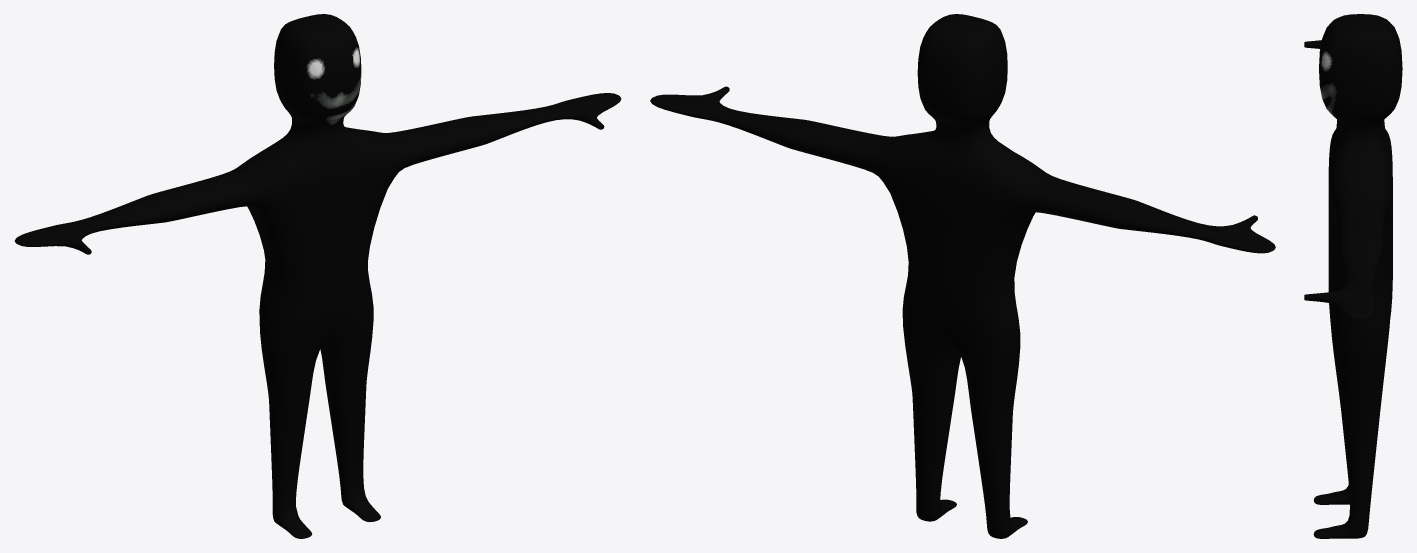
The model's file is stalker.glb.
3 renders of one model, left to right at view 1: azimuth 30°, elevation 25°; view 2: azimuth 150°, elevation 25°; view 3: azimuth 270°, elevation 25°, orthographic. The views are drawn at different scales.
Visible parts, largest first — view 1: Cube; view 2: Cube; view 3: Cube.
Boxes of the visible parts, bbox=[...] form: Cube: bbox=[14, 14, 621, 538]; Cube: bbox=[650, 14, 1275, 538]; Cube: bbox=[1304, 14, 1402, 538].
Bounding box in the file's own units: 2.83 × 2.2 × 0.3937.
1 material, 1 textured.
